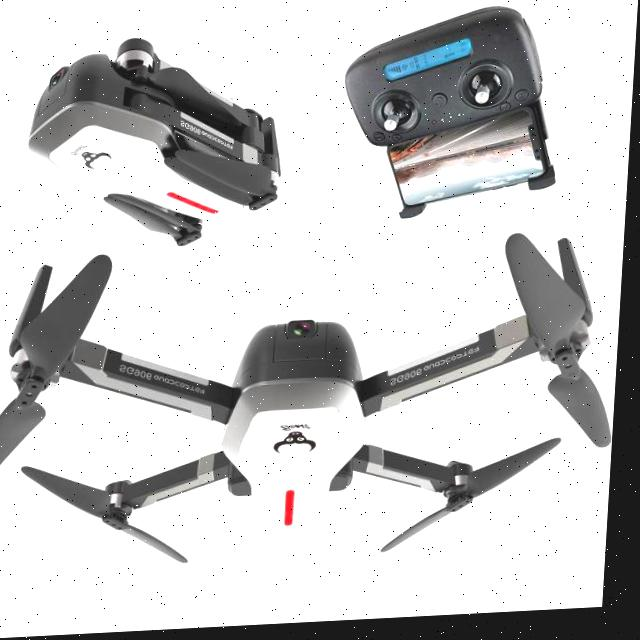drone: (0, 220, 626, 582)
